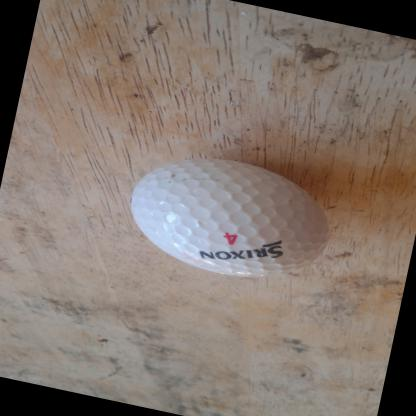Golf: (111, 136, 341, 301)
